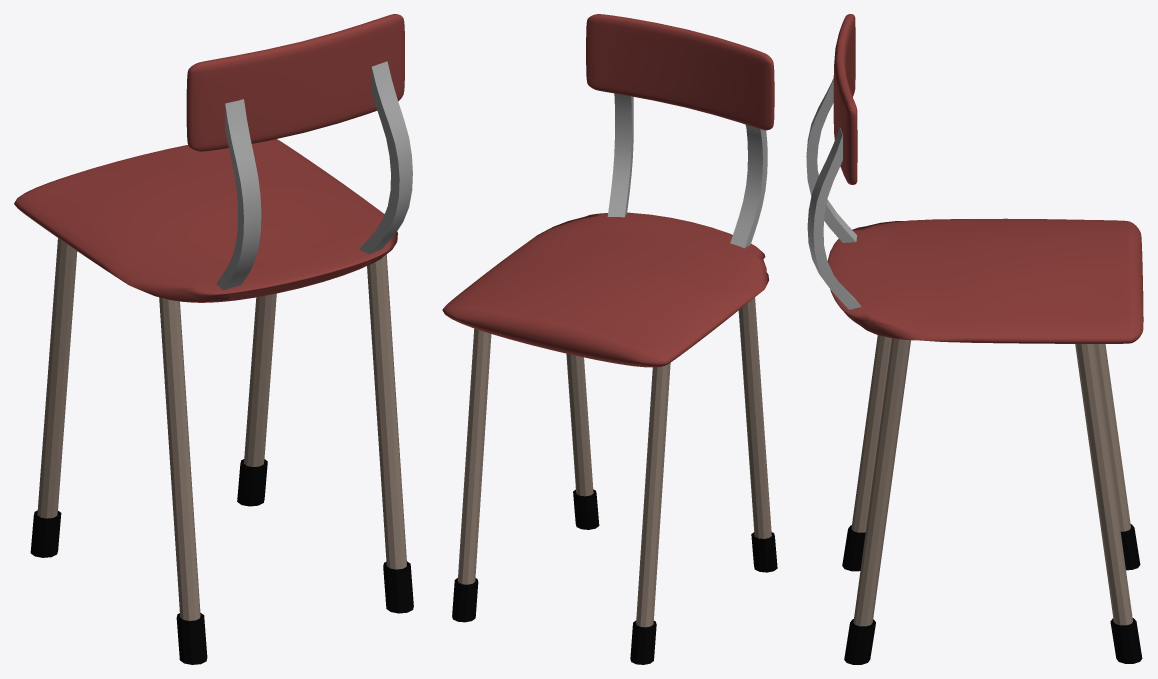
File: Chaise_Ordinateur.fbx
The picture shows the model from 3 angles, left to right: view 1: azimuth 30°, elevation 25°; view 2: azimuth 150°, elevation 25°; view 3: azimuth 270°, elevation 25°; orthographic projection. The views are drawn at different scales.
Parts seen in each view (by area): view 1: chaire5; view 2: chaire5; view 3: chaire5.
Boxes of the visible parts, x1,y1,x2,y2 form: chaire5: [14, 14, 413, 664]; chaire5: [442, 14, 777, 664]; chaire5: [806, 14, 1143, 664].
Bounding box in the file's own units: 40.64 × 87.1 × 48.03.
